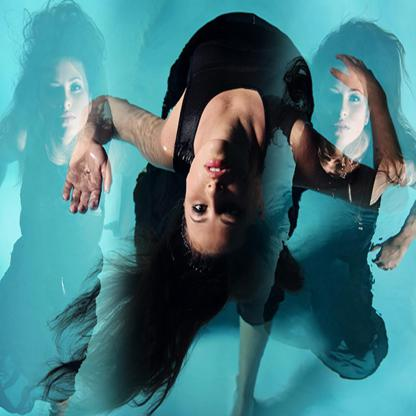face: (187, 142, 250, 257), (321, 57, 369, 158), (38, 61, 89, 147)
